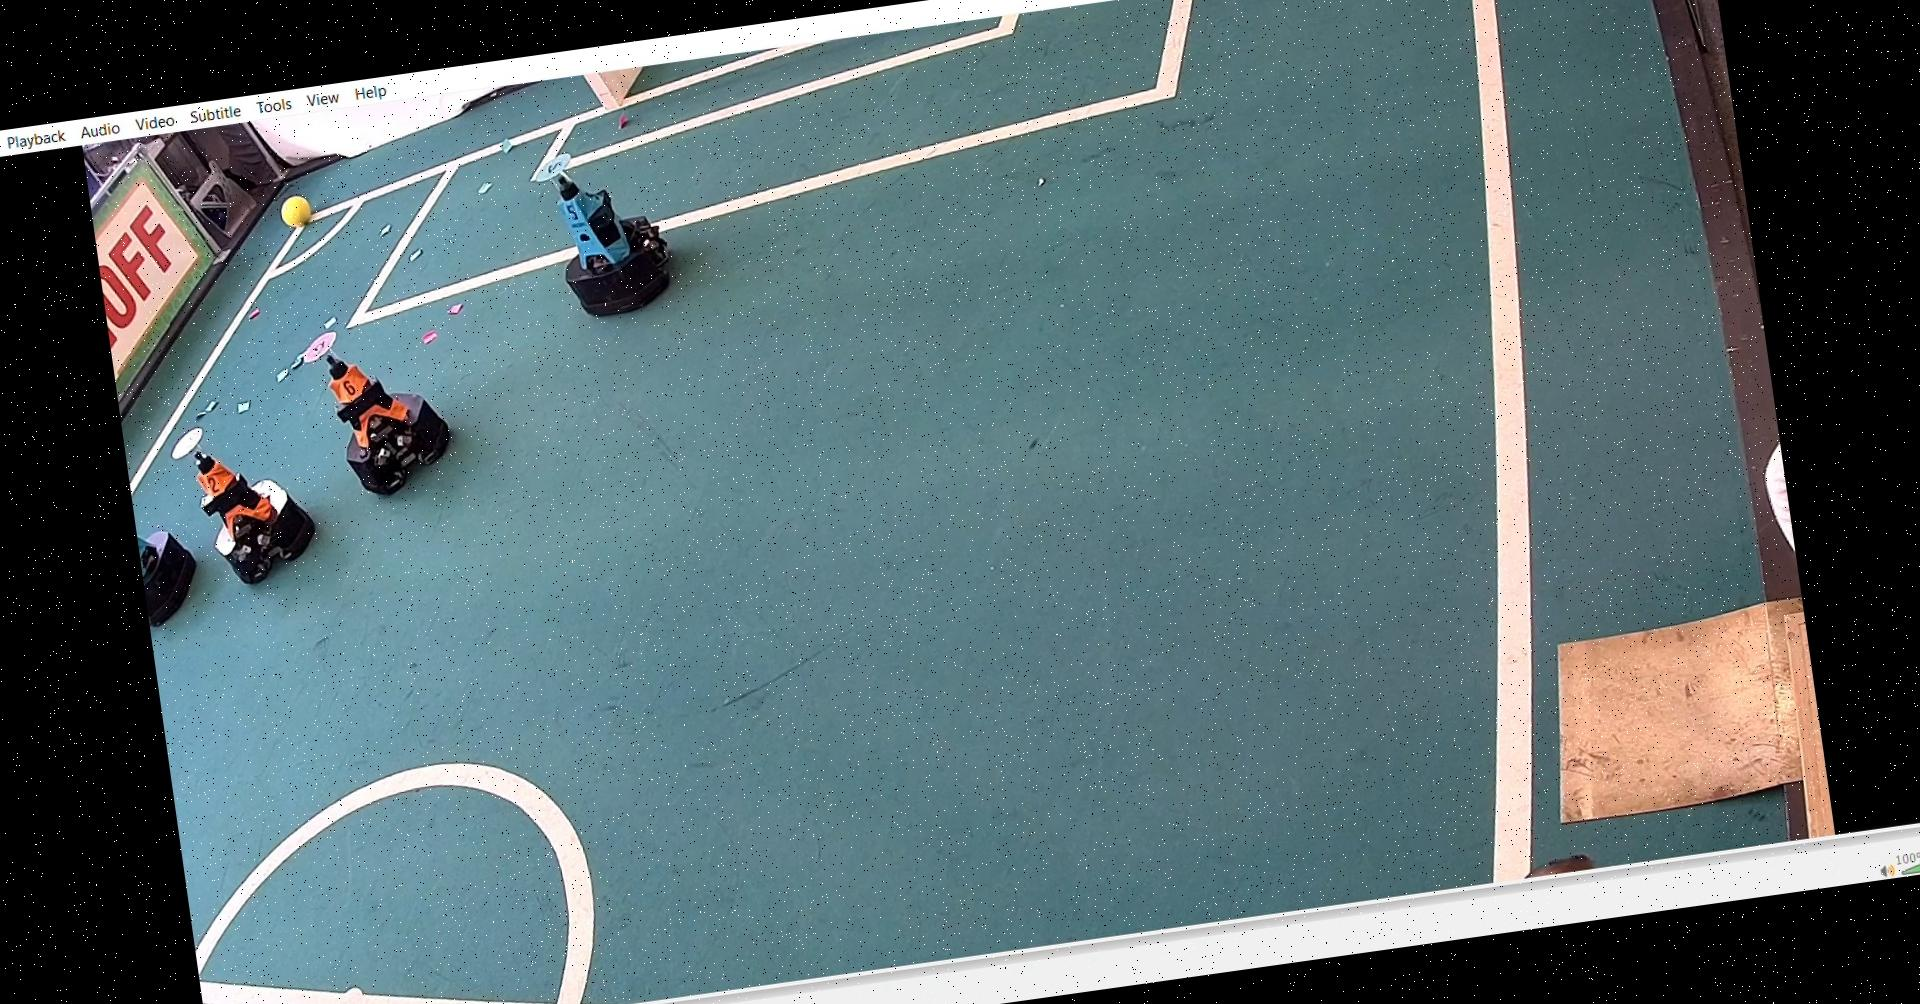Ball: (284, 190, 324, 227)
Team_Blue: (528, 127, 691, 327)
Team_Red: (292, 306, 461, 503), (164, 406, 325, 595)
